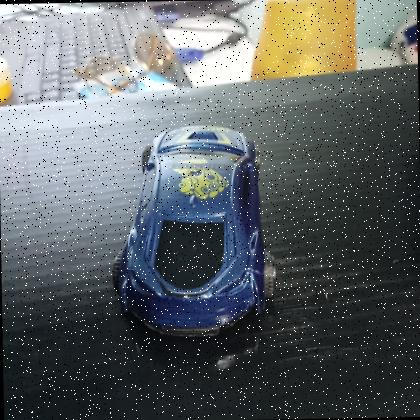Car: (107, 120, 282, 342)
